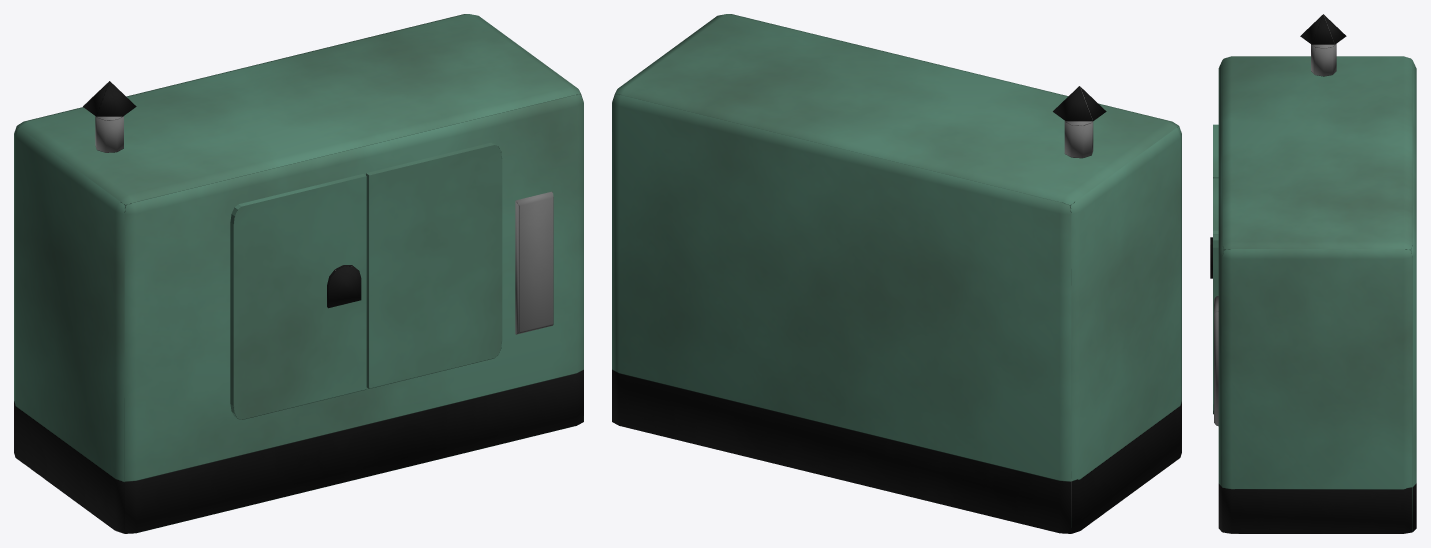
The model's file is LargeGeneratorLowPoly.fbx.
The picture shows the model from 3 angles, left to right: view 1: azimuth 30°, elevation 25°; view 2: azimuth 150°, elevation 25°; view 3: azimuth 270°, elevation 25°; orthographic projection. The views are drawn at different scales.
Parts seen in each view (by area): view 1: GeneratorLowPoly; view 2: GeneratorLowPoly; view 3: GeneratorLowPoly.
Boxes of the visible parts, box(x1,y1,x2,y2) form: GeneratorLowPoly: box(14, 14, 583, 533); GeneratorLowPoly: box(612, 14, 1181, 533); GeneratorLowPoly: box(1210, 14, 1416, 533).
Bounding box in the file's own units: 374 × 306 × 166.
